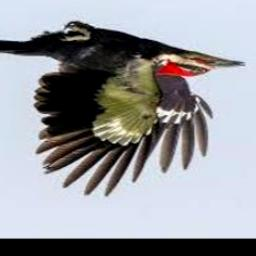Woodpecker: (0, 21, 248, 197)
